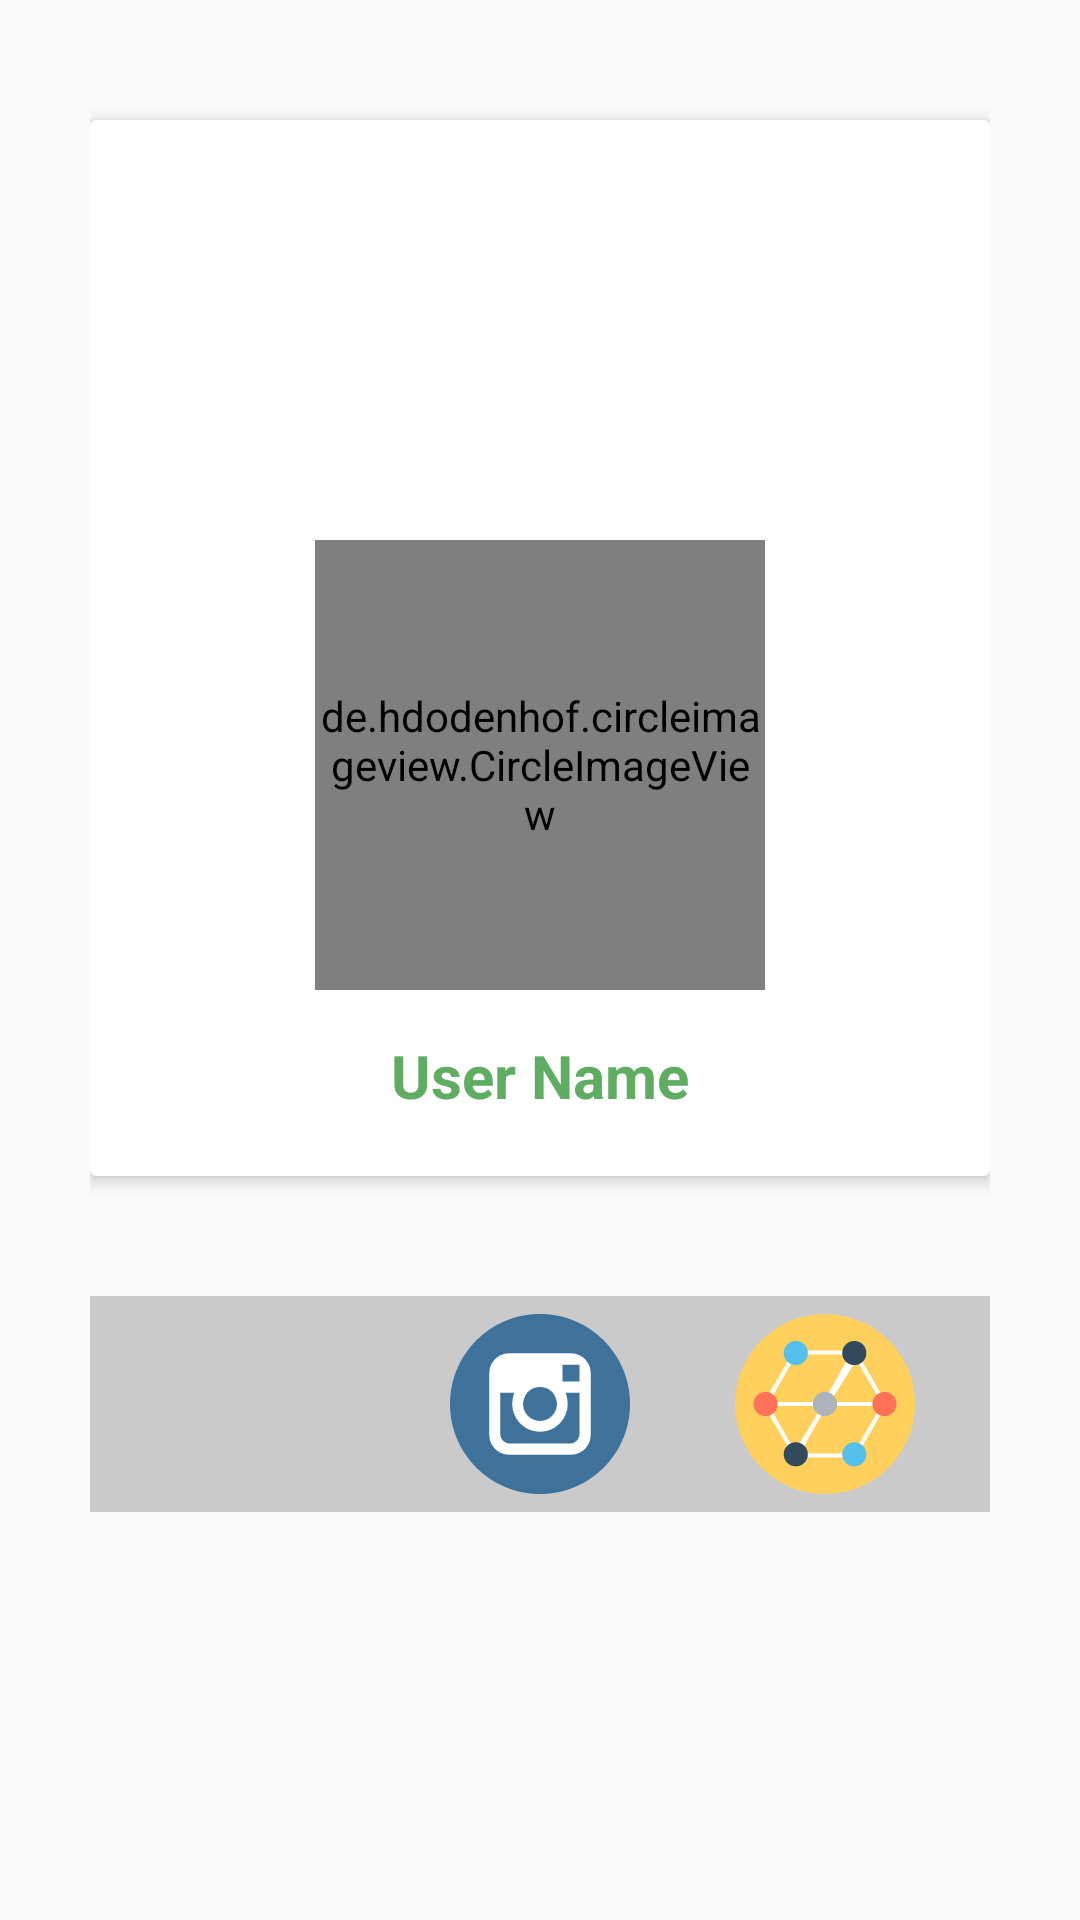

Screen size 1080px x 1920px. Icon name, then its center in pixels as (x,y):
networking: (825,1404)
